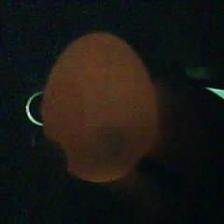fertile: (40, 31, 161, 186)
